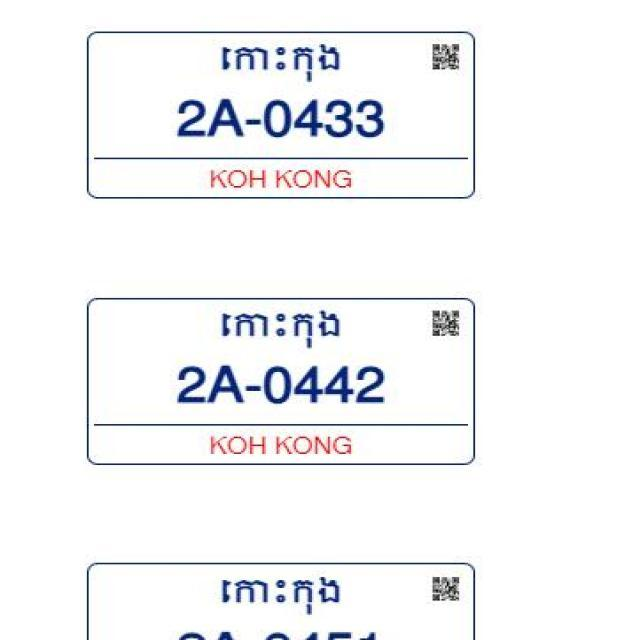Koh_Kong: (211, 564, 355, 622), (206, 301, 348, 354), (218, 36, 358, 88)
